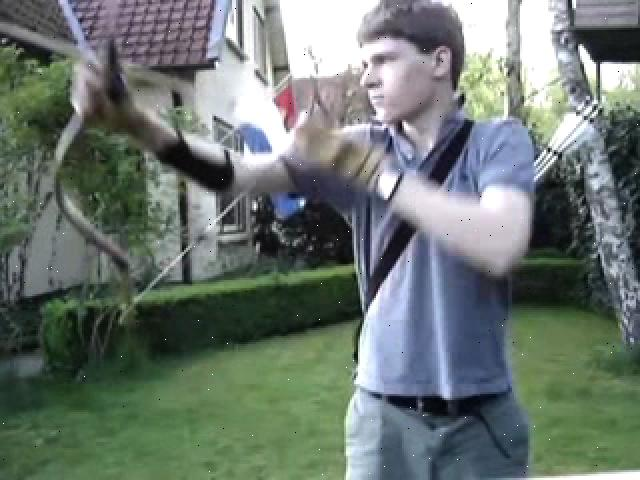P: (71, 4, 533, 475)
